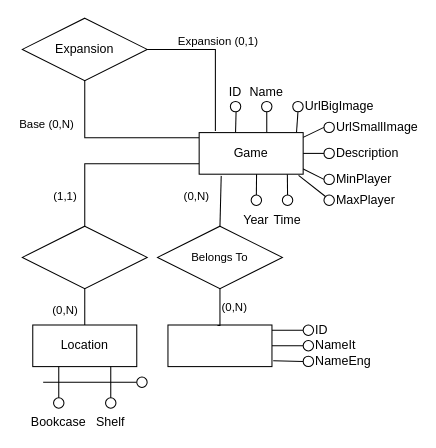
Image size: 436x448. Some labels were removed from this diagram. Each missing label, with the centre of its shape:
Category: [219,345]
Have: [84,257]
